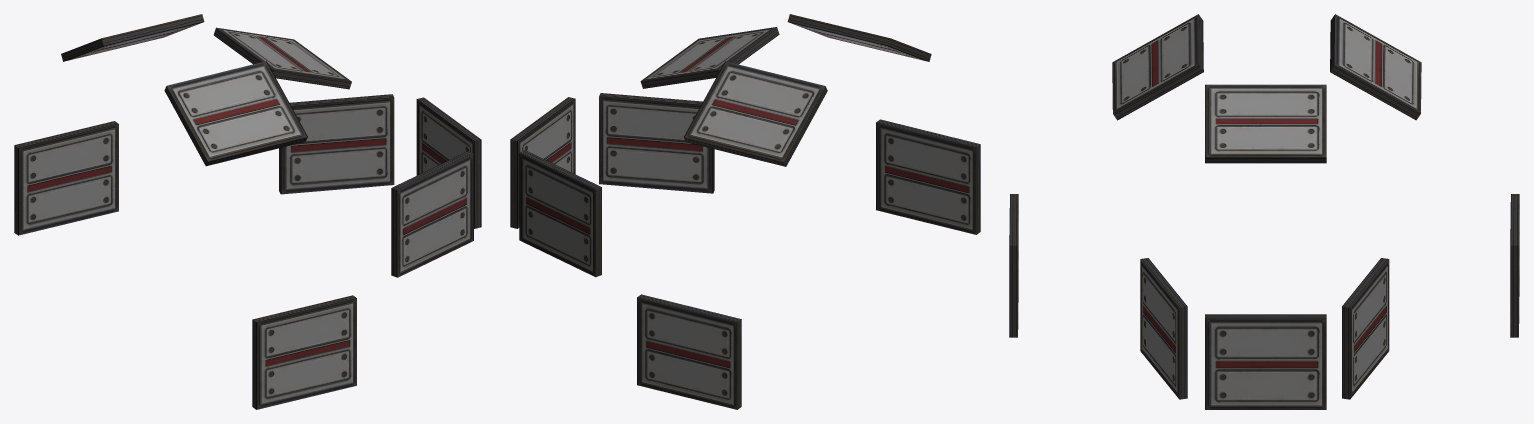
File: accessories_armour.FBX
3 renders of one model, left to right at view 1: azimuth 30°, elevation 25°; view 2: azimuth 150°, elevation 25°; view 3: azimuth 270°, elevation 25°, orthographic. The views are drawn at different scales.
Parts seen in each view (by area): view 1: Object014, Object015, Object019, Object018, Object017, Object013, Object002, Object016; view 2: Object015, Object019, Object017, Object016, Object014, Object013, Object002, Object018; view 3: Object002, Object013, Object018, Object016, Object014, Object017, Object015, Object019.
Part boxes in pixels (x1=…): Object014: x1=279, y1=94, x2=394, y2=194; Object015: x1=14, y1=121, x2=118, y2=235; Object019: x1=252, y1=295, x2=356, y2=409; Object018: x1=164, y1=61, x2=307, y2=166; Object017: x1=391, y1=151, x2=473, y2=277; Object013: x1=213, y1=27, x2=351, y2=89; Object002: x1=416, y1=97, x2=481, y2=228; Object016: x1=61, y1=14, x2=204, y2=61; Object015: x1=637, y1=294, x2=741, y2=409; Object019: x1=876, y1=119, x2=980, y2=234; Object017: x1=599, y1=93, x2=714, y2=193; Object016: x1=683, y1=61, x2=827, y2=166; Object014: x1=519, y1=150, x2=601, y2=277; Object013: x1=640, y1=27, x2=779, y2=88; Object002: x1=510, y1=97, x2=575, y2=228; Object018: x1=787, y1=14, x2=931, y2=61; Object002: x1=1205, y1=314, x2=1326, y2=409; Object013: x1=1205, y1=84, x2=1326, y2=163; Object018: x1=1112, y1=14, x2=1203, y2=120; Object016: x1=1330, y1=14, x2=1421, y2=120; Object014: x1=1342, y1=258, x2=1389, y2=399; Object017: x1=1140, y1=258, x2=1187, y2=399; Object015: x1=1510, y1=194, x2=1519, y2=337; Object019: x1=1009, y1=194, x2=1018, y2=337.
Bounding box in the file's own units: 44.53 × 34.58 × 58.8.
